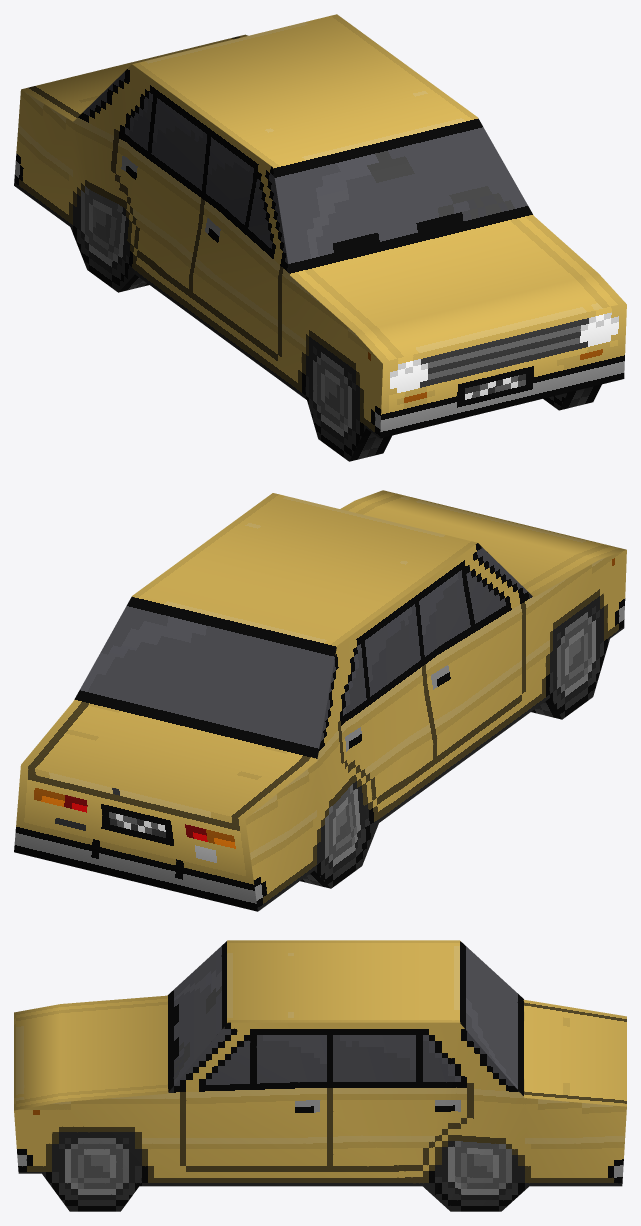
The model's file is sv-vaz2101-yellow.glb.
The picture shows the model from 3 angles, top to bottom: view 1: azimuth 30°, elevation 25°; view 2: azimuth 150°, elevation 25°; view 3: azimuth 270°, elevation 25°; orthographic projection. The views are drawn at different scales.
Parts seen in each view (by area): view 1: sv-vaz2101-yellow-mesh; view 2: sv-vaz2101-yellow-mesh; view 3: sv-vaz2101-yellow-mesh.
Part boxes in pixels (left/top/right/bottom): sv-vaz2101-yellow-mesh: left=14, top=14, right=626, bottom=461; sv-vaz2101-yellow-mesh: left=14, top=490, right=626, bottom=911; sv-vaz2101-yellow-mesh: left=14, top=940, right=626, bottom=1211.
Size of the model in its own units: 50 by 43 by 132.
Materials: 1 (1 with a texture image).
